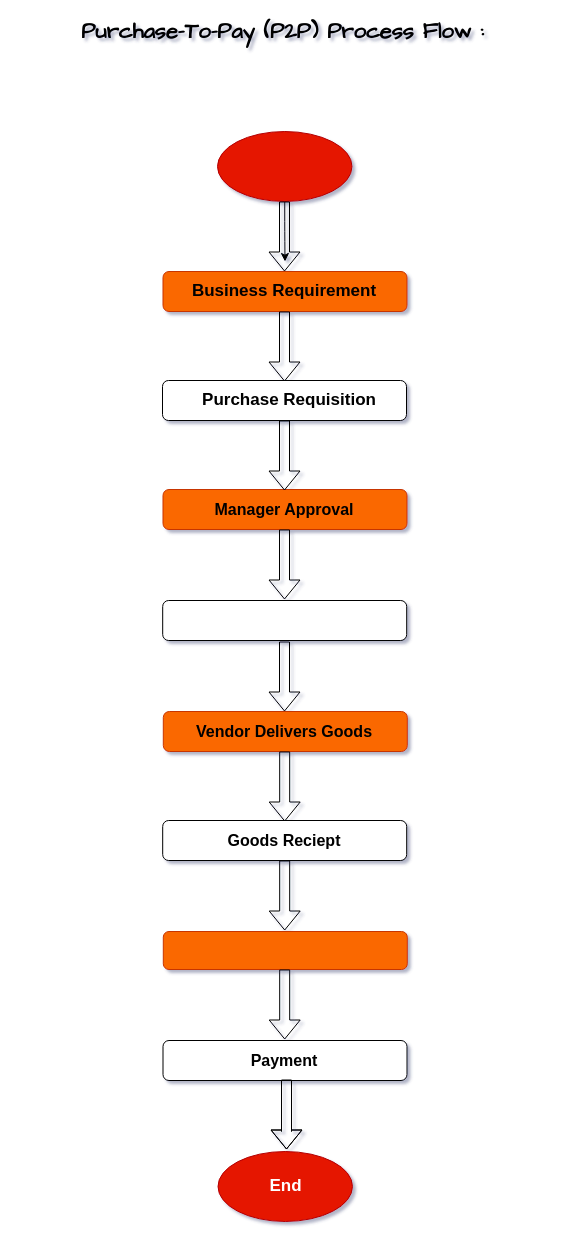
Some shapes in this 573 by 1245 pixel diagram are drawn without their labels. Here are the shapes that lost their labels. From the top down, the centre of each, then its label:
At point (284, 166): "Start".
At point (284, 620): "Purchase Order".
At point (284, 950): "Vendor Invoice".
